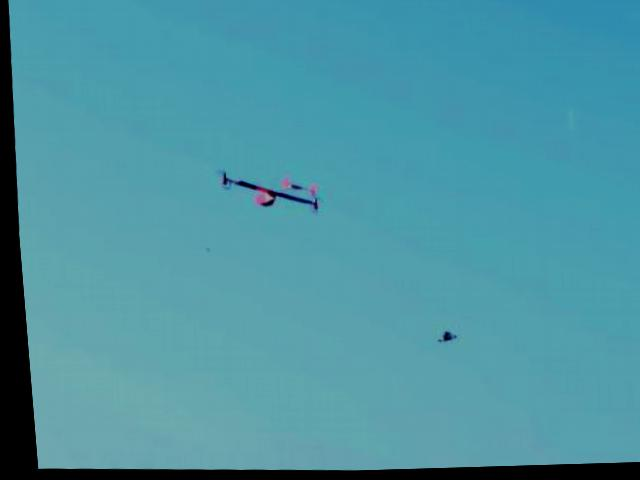uav: (206, 163, 327, 230)
